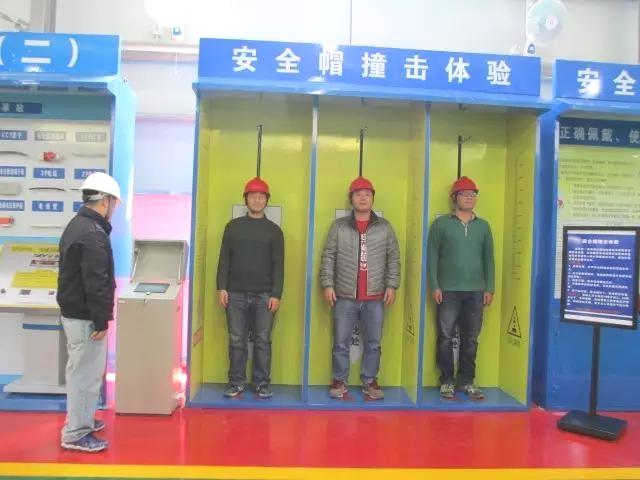helmet: (77, 167, 125, 220), (240, 174, 273, 213), (448, 175, 480, 214), (347, 177, 378, 214)
not_reflective: (54, 205, 119, 321), (317, 212, 404, 294), (423, 214, 500, 291), (215, 216, 289, 296)
